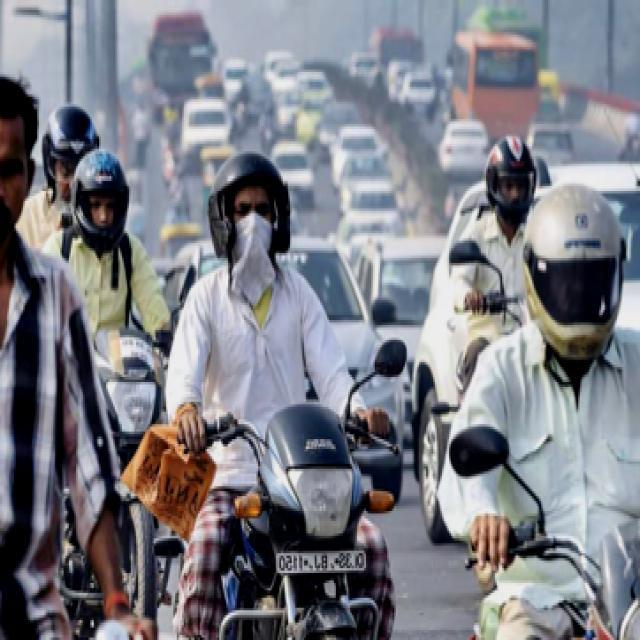Helmet: (523, 186, 628, 362), (206, 144, 294, 268), (71, 142, 131, 246), (486, 134, 539, 218)
